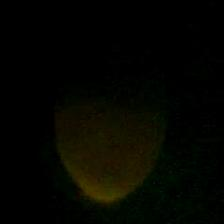fertile: (51, 50, 167, 202)
